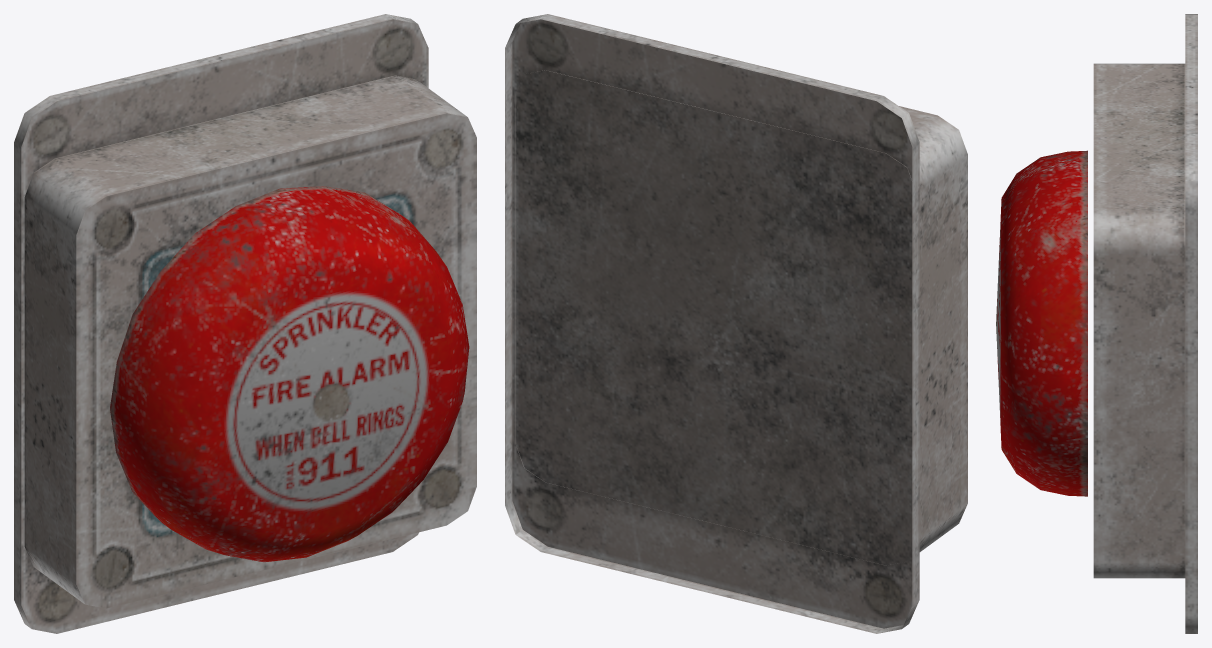
Rendered from Bell_01a_snaps019.fbx.
The picture shows the model from 3 angles, left to right: view 1: azimuth 30°, elevation 25°; view 2: azimuth 150°, elevation 25°; view 3: azimuth 270°, elevation 25°; orthographic projection. The views are drawn at different scales.
Parts seen in each view (by area): view 1: Bell_01a_snaps019_LOD0; view 2: Bell_01a_snaps019_LOD0; view 3: Bell_01a_snaps019_LOD0.
Boxes of the visible parts, x1=… form: Bell_01a_snaps019_LOD0: x1=14, y1=14, x2=476, y2=633; Bell_01a_snaps019_LOD0: x1=505, y1=14, x2=967, y2=633; Bell_01a_snaps019_LOD0: x1=996, y1=14, x2=1197, y2=633.
Size of what is drawn, in the model's own units: 20.01 by 25.02 by 9.69.
